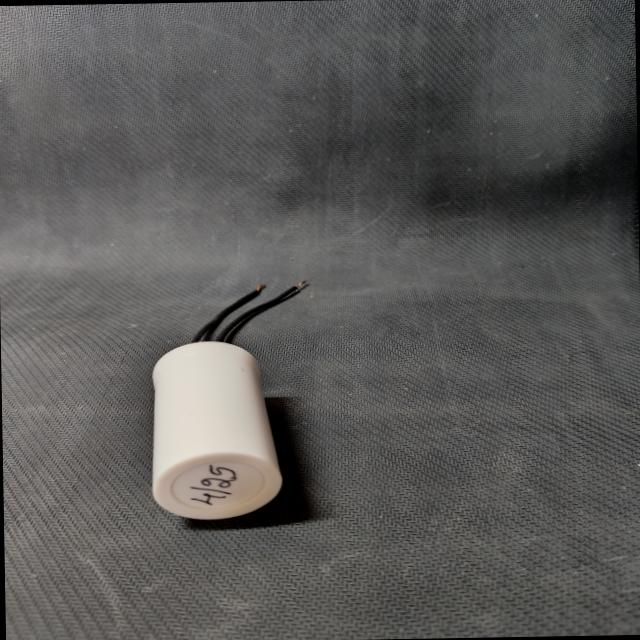capacitor: (134, 271, 326, 534)
